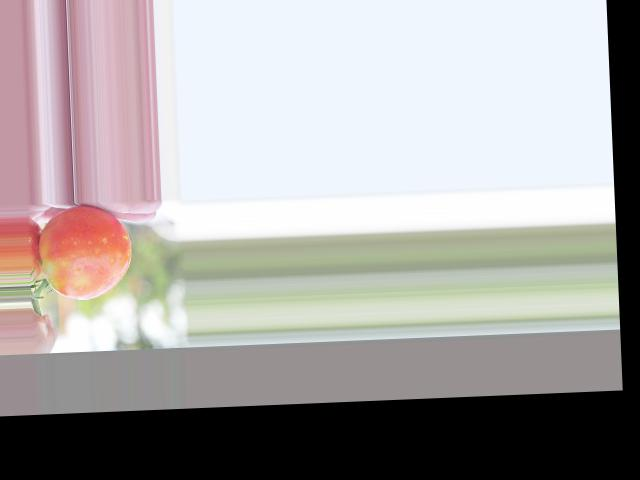tomato: (38, 204, 133, 301)
